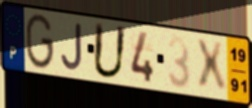3: (166, 33, 192, 90)
4: (129, 29, 155, 84)
G: (24, 12, 55, 72)
J: (59, 20, 84, 73)
U: (91, 20, 129, 81)
X: (194, 38, 229, 95)
